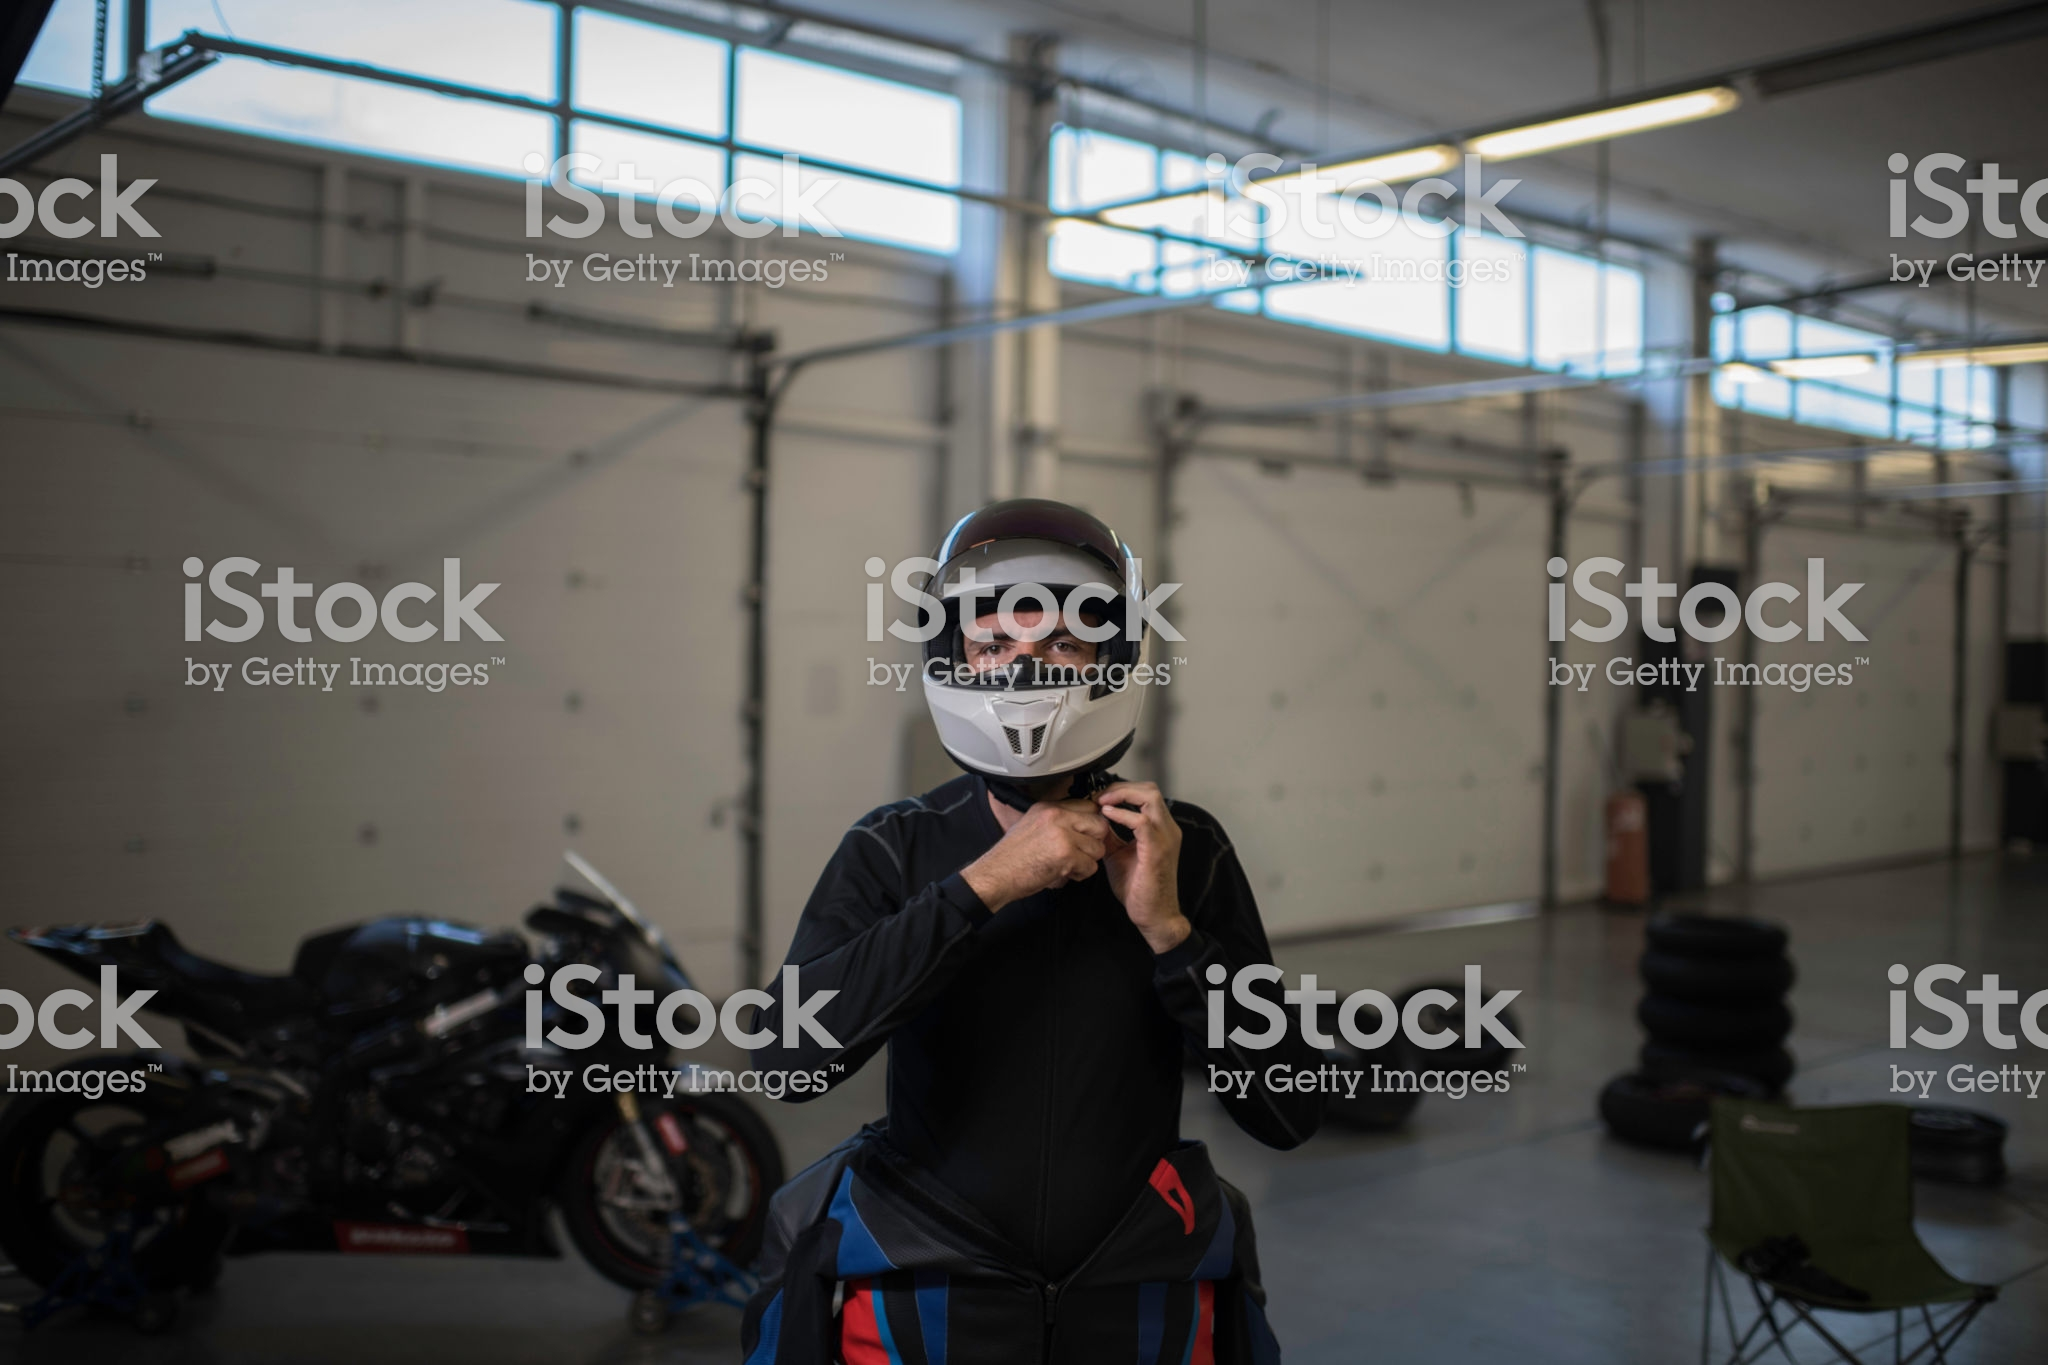helmet: (914, 526, 1191, 783)
